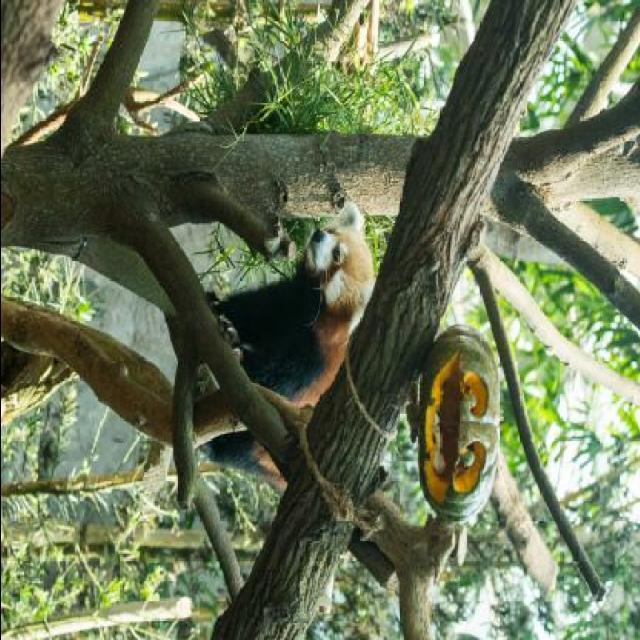Pumpkin: (420, 322, 502, 530)
